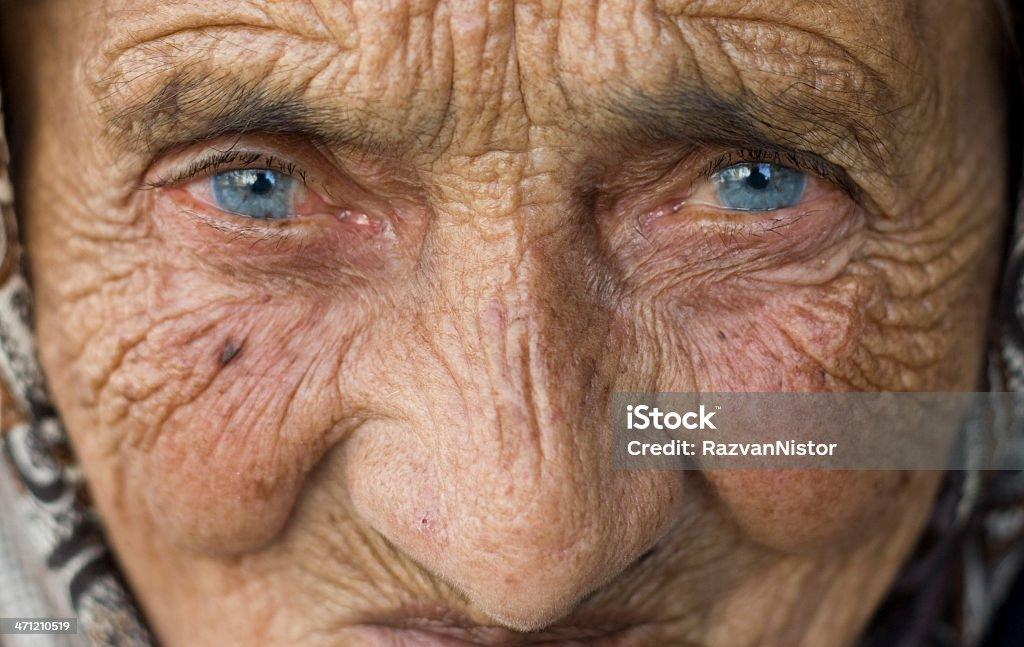Dry-Skin: (89, 241, 335, 490), (761, 269, 968, 485), (451, 0, 592, 193)
